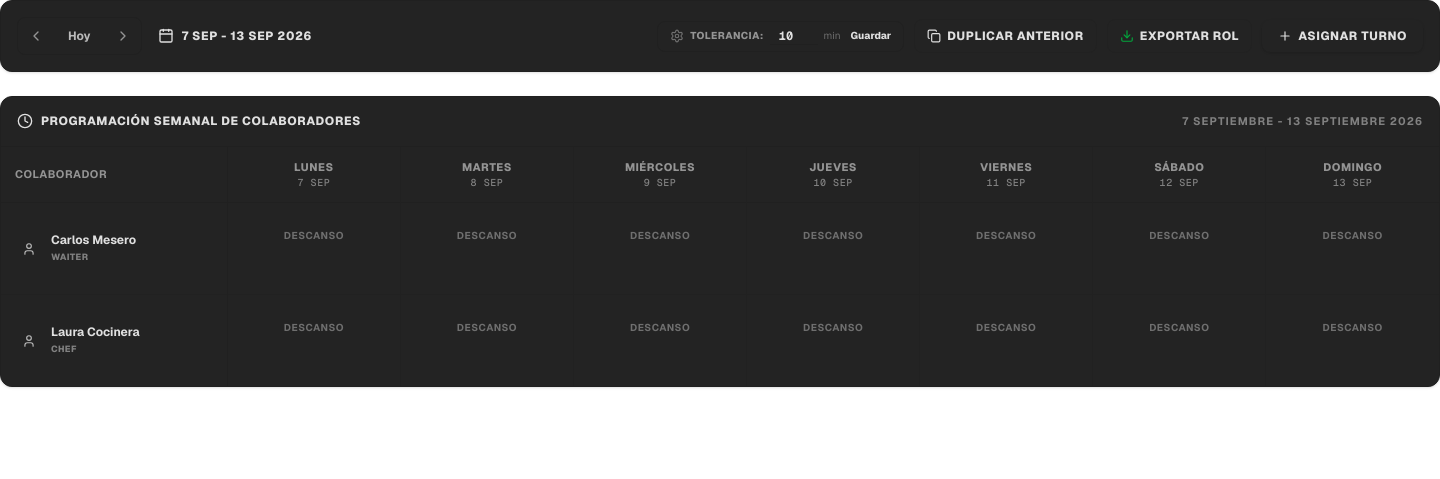
it: WeeklyShiftPlanner Component › handles tolerance configuration change and save
Expected: the text "Carlos Mesero" is shown, [51,233,136,248]
Step 1. Replace the text in the number field showing "10" with "15" → (794, 36), box [770,28,818,44]
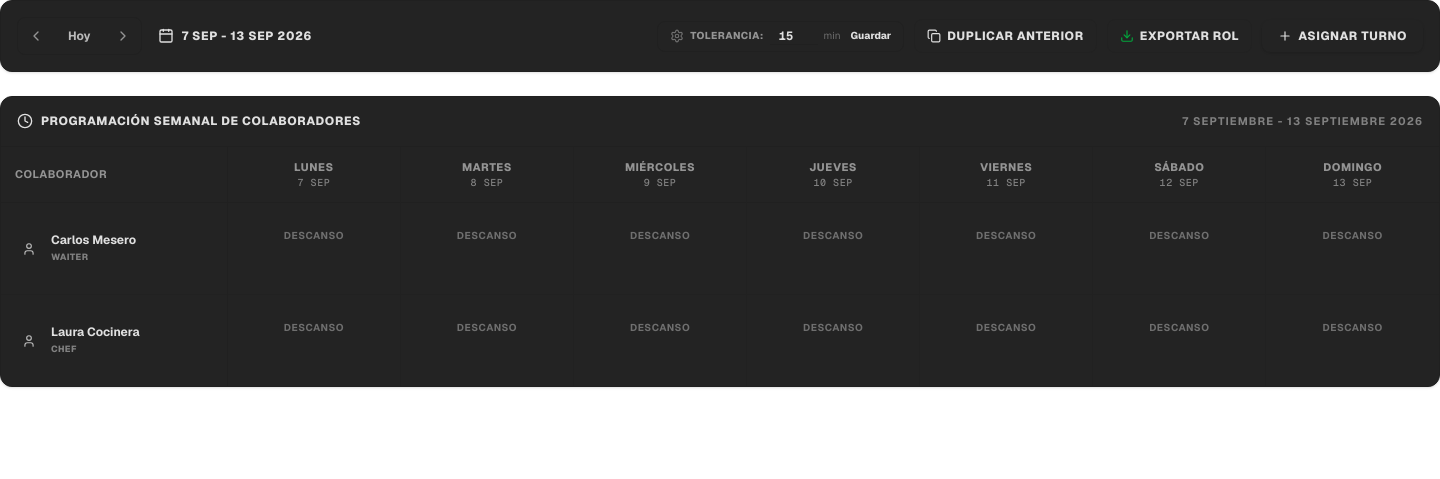
Step 2. Click the button "Guardar" → (871, 36), box [851,29,891,43]
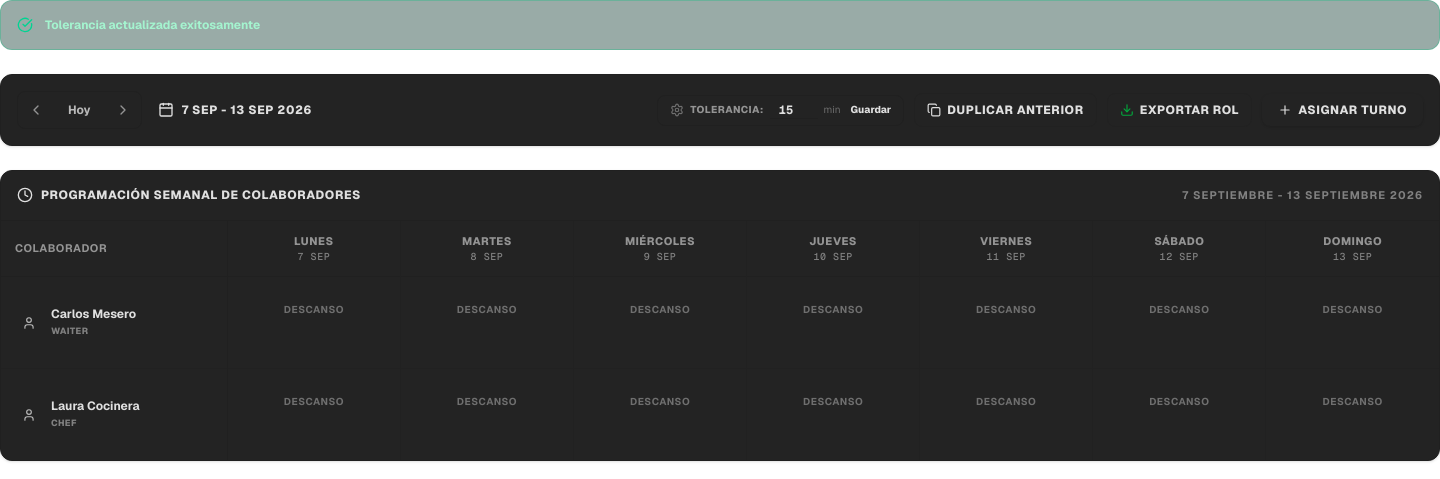
Expected: the text "Tolerancia actualizada exitosamente" is shown, [45,17,260,33]
